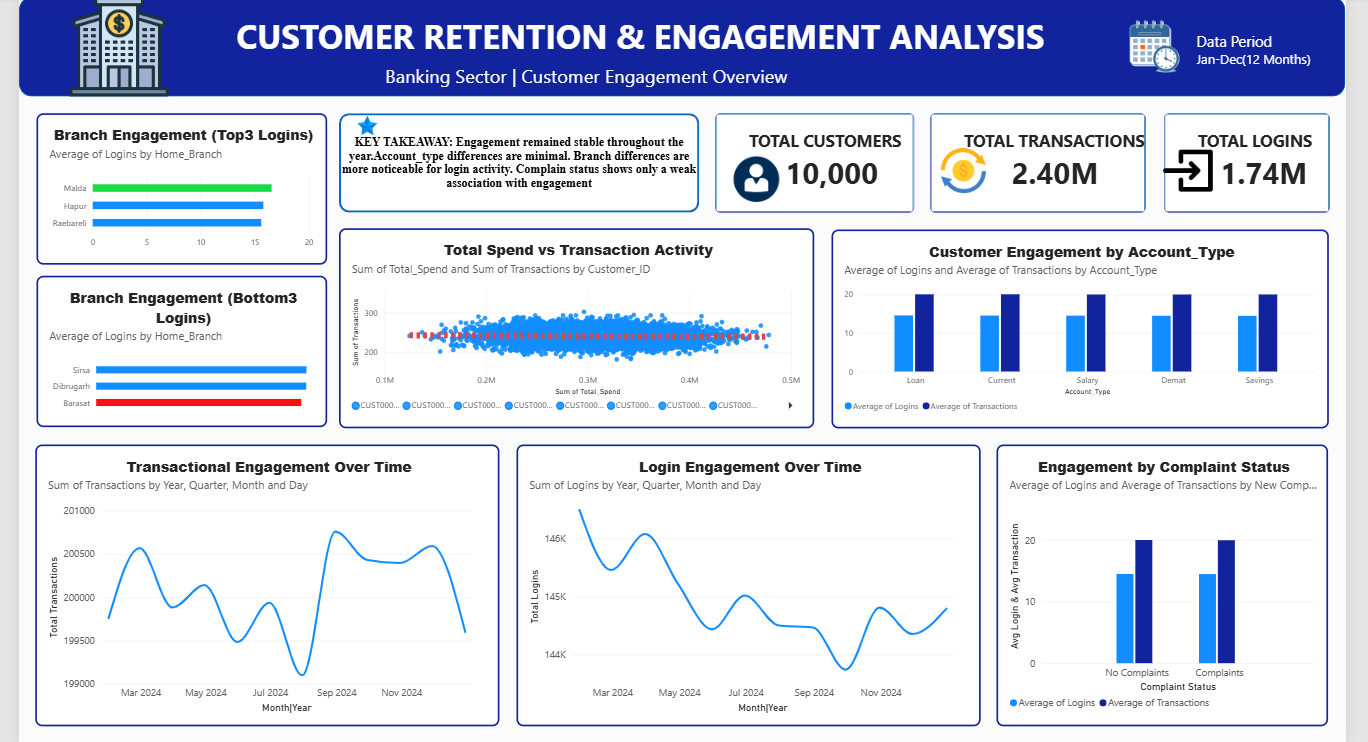

Layout of this report page (visuals, bound fields, positions):
{"tool":"powerbi","page":{"name":"Page 1","canvas":[1920,1080],"ordinal":0},"visuals":[{"type":"shape","box":[0,0,1920,144],"z":0},{"type":"shape","box":[1657.9,168,240,144],"z":1000},{"type":"textbox","box":[314.4,24,1176,96],"z":2000,"group":"g3"},{"type":"textbox","box":[1705.9,192,192,144],"z":2000},{"type":"textbox","box":[530.4,96,600,48],"z":3000,"group":"g3"},{"type":"group","id":"g1","title":"Group 1","box":[1320,168,312,144],"z":3000},{"type":"group","id":"g2","title":"Group 2","box":[1008,168,288,144],"z":4000},{"type":"shape","box":[1320,168,312,144],"z":5000,"group":"g1"},{"type":"image","box":[1632,216,120,72],"z":5000},{"type":"shape","box":[1008,168,288,144],"z":6000,"group":"g2"},{"type":"image","box":[1320,216,96,72],"z":6000},{"type":"image","box":[1032,216,72,96],"z":7000},{"type":"image","box":[48,0,192,144],"z":8000},{"type":"image","box":[1560,24,168,96],"z":9000},{"type":"textbox","box":[1368,192,264,120],"z":9000,"group":"g1"},{"type":"group","id":"g3","title":"Group 3","box":[314.4,24,1176,120],"z":10000},{"type":"textbox","box":[1056,192,240,96],"z":10000,"group":"g2"},{"type":"textbox","box":[1704,48,216,72],"z":11000},{"type":"lineChart","title":"Transactional Engagement Over Time","fields":{"Category":["Table1_1.Date.Variation.Date Hierarchy.Year","Table1_1.Date.Variation.Date Hierarchy.Quarter","Table1_1.Date.Variation.Date Hierarchy.Month","Table1_1.Date.Variation.Date Hierarchy.Day"],"Y":["Sum(Table1_1.Transactions)"]},"box":[24,648,672,408],"z":12000},{"type":"lineChart","title":"Login Engagement Over Time","fields":{"Category":["Table1_1.Date.Variation.Date Hierarchy.Year","Table1_1.Date.Variation.Date Hierarchy.Quarter","Table1_1.Date.Variation.Date Hierarchy.Month","Table1_1.Date.Variation.Date Hierarchy.Day"],"Y":["Sum(Table1_1.Logins)"]},"box":[720,648,672,408],"z":13000},{"type":"clusteredColumnChart","title":"Engagement by Complaint Status","fields":{"Category":["Table1_1.New Complaints"],"Y":["Avg(Table1_1.Logins)","Avg(Table1_1.Transactions)"]},"box":[1416,648,480,408],"z":14000},{"type":"clusteredColumnChart","title":"Customer Engagement by Account_Type","fields":{"Category":["Table1_1.Account_Type"],"Y":["Avg(Table1_1.Logins)","Avg(Table1_1.Transactions)"]},"box":[1176,336,720,288],"z":15000},{"type":"scatterChart","title":"Total Spend vs Transaction Activity","fields":{"X":["Sum(Table1_1.Total_Spend)"],"Y":["Sum(Table1_1.Transactions)"],"Series":["Table1_1.Customer_ID"]},"box":[463.6,335.1,687.9,289.8],"z":16000},{"type":"clusteredBarChart","title":"Branch Engagement (Top3 Logins)","fields":{"Category":["Table1_1.Home_Branch"],"Y":["Avg(Table1_1.Logins)"]},"box":[25.2,168.8,420.8,219.2],"z":17000},{"type":"clusteredBarChart","title":"Branch Engagement (Bottom3 Logins)","fields":{"Category":["Table1_1.Home_Branch"],"Y":["Avg(Table1_1.Logins)"]},"box":[25.2,403.1,420.8,219.2],"z":18000},{"type":"shape","box":[463.6,168.8,521.6,143.6],"z":19000},{"type":"image","box":[446,171.3,118.4,27.7],"z":20000}]}

Visuals, with their boxes in screenshot pixels (x1, y1, x2, y2):
shape: left=39, top=0, right=1338, bottom=97
shape: left=1161, top=114, right=1323, bottom=211
textbox: left=252, top=16, right=1048, bottom=81
textbox: left=1193, top=130, right=1323, bottom=227
textbox: left=398, top=65, right=804, bottom=97
"Group 1" group: left=932, top=114, right=1143, bottom=211
"Group 2" group: left=721, top=114, right=916, bottom=211
shape: left=932, top=114, right=1143, bottom=211
image: left=1143, top=146, right=1225, bottom=195
shape: left=721, top=114, right=916, bottom=211
image: left=932, top=146, right=997, bottom=195
image: left=737, top=146, right=786, bottom=211
image: left=72, top=0, right=202, bottom=97
image: left=1095, top=16, right=1208, bottom=81
textbox: left=965, top=130, right=1143, bottom=211
"Group 3" group: left=252, top=16, right=1048, bottom=97
textbox: left=754, top=130, right=916, bottom=195
textbox: left=1192, top=32, right=1338, bottom=81
"Transactional Engagement Over Time" lineChart: left=55, top=438, right=510, bottom=715
"Login Engagement Over Time" lineChart: left=526, top=438, right=981, bottom=715
"Engagement by Complaint Status" clusteredColumnChart: left=997, top=438, right=1322, bottom=715
"Customer Engagement by Account_Type" clusteredColumnChart: left=835, top=227, right=1322, bottom=422
"Total Spend vs Transaction Activity" scatterChart: left=353, top=227, right=818, bottom=423
"Branch Engagement (Top3 Logins)" clusteredBarChart: left=56, top=114, right=341, bottom=263
"Branch Engagement (Bottom3 Logins)" clusteredBarChart: left=56, top=273, right=341, bottom=421
shape: left=353, top=114, right=706, bottom=211
image: left=341, top=116, right=421, bottom=135
